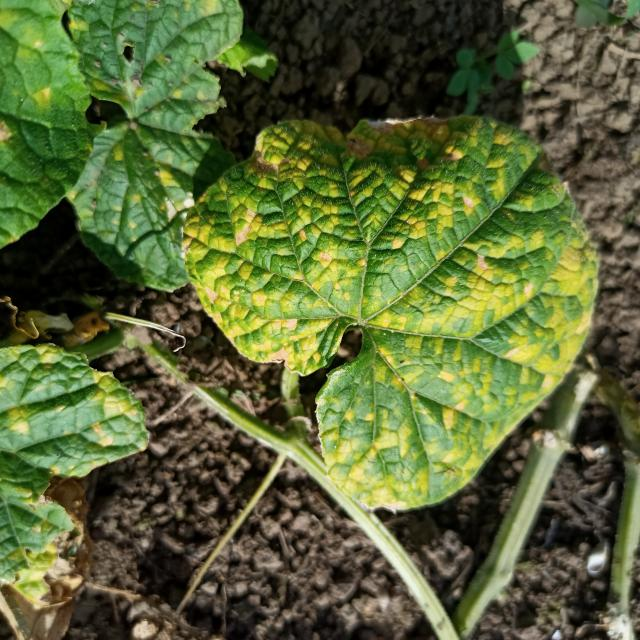disease_cucumber: (198, 125, 592, 506)
